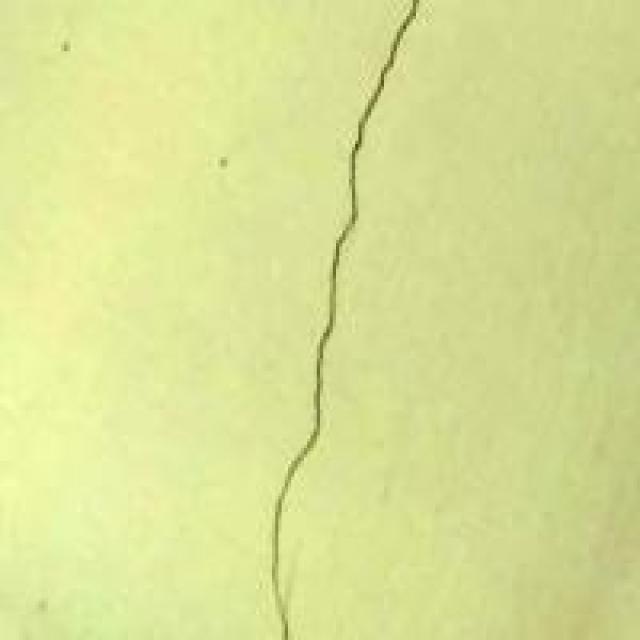crack: (253, 0, 486, 637)
